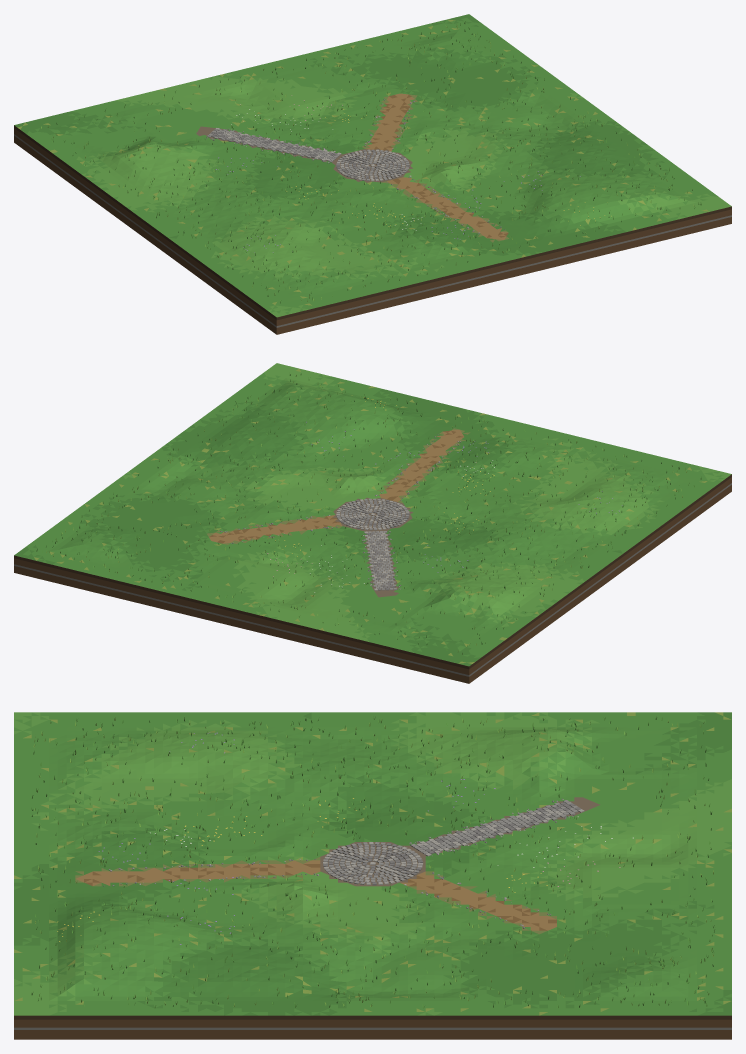
The model's file is terrain.glb.
3 views of the same model, one above another, from view 1: azimuth 30°, elevation 25°; view 2: azimuth 150°, elevation 25°; view 3: azimuth 270°, elevation 25° (orthographic). The views are drawn at different scales.
Parts seen in each view (by area): view 1: terrain_ground-col, terrain_flora, terrain_cobble; view 2: terrain_ground-col, terrain_flora, terrain_cobble; view 3: terrain_ground-col, terrain_flora, terrain_cobble, terrain_pebbles.
Part boxes in pixels (x1=…): terrain_ground-col: x1=14, y1=14, x2=731, y2=334; terrain_flora: x1=41, y1=21, x2=701, y2=303; terrain_cobble: x1=207, y1=128, x2=409, y2=181; terrain_ground-col: x1=14, y1=363, x2=731, y2=683; terrain_flora: x1=36, y1=373, x2=701, y2=654; terrain_cobble: x1=336, y1=498, x2=409, y2=590; terrain_ground-col: x1=14, y1=712, x2=731, y2=1039; terrain_flora: x1=30, y1=717, x2=714, y2=1008; terrain_cobble: x1=322, y1=800, x2=584, y2=885; terrain_pebbles: x1=103, y1=798, x2=574, y2=928.
Bounding box in the file's own units: 41 × 2.65 × 41.
